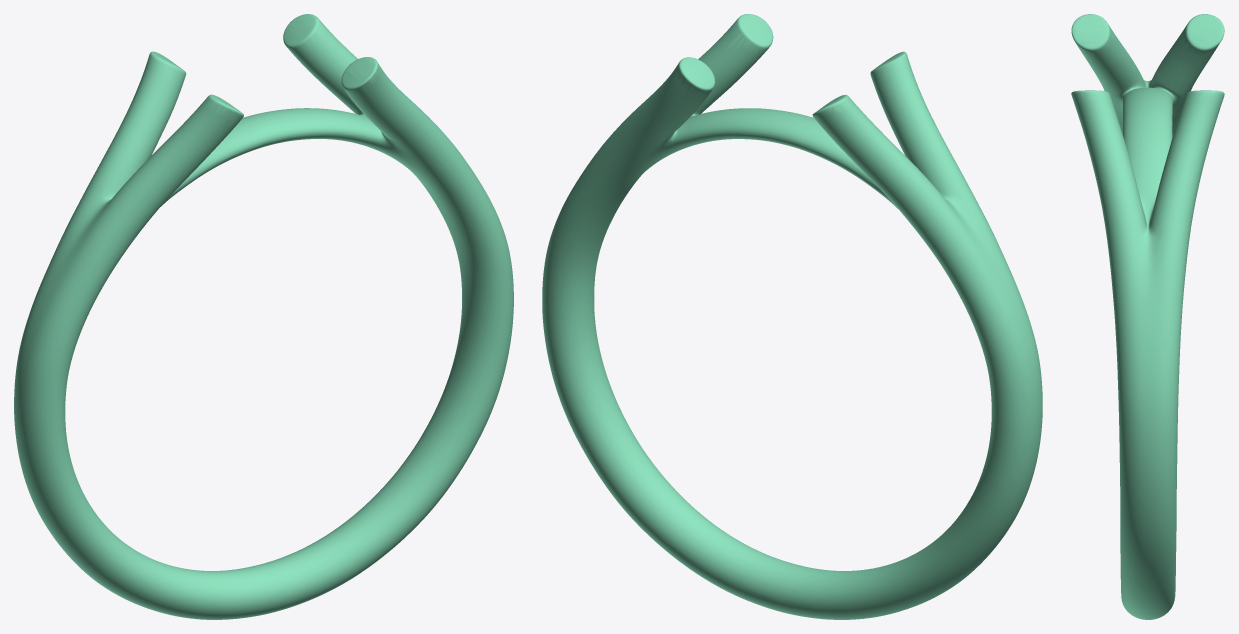
3 views of the same model, side by side, from view 1: azimuth 30°, elevation 25°; view 2: azimuth 150°, elevation 25°; view 3: azimuth 270°, elevation 25° (orthographic). The views are drawn at different scales.
Parts seen in each view (by area): view 1: Metal02; view 2: Metal02; view 3: Metal02.
Boxes of the visible parts, x1,y1,x2,y2 form: Metal02: (14, 14, 513, 619); Metal02: (542, 14, 1042, 619); Metal02: (1071, 14, 1224, 619).
Bounding box in the file's own units: 20.87 × 22.54 × 5.77.
